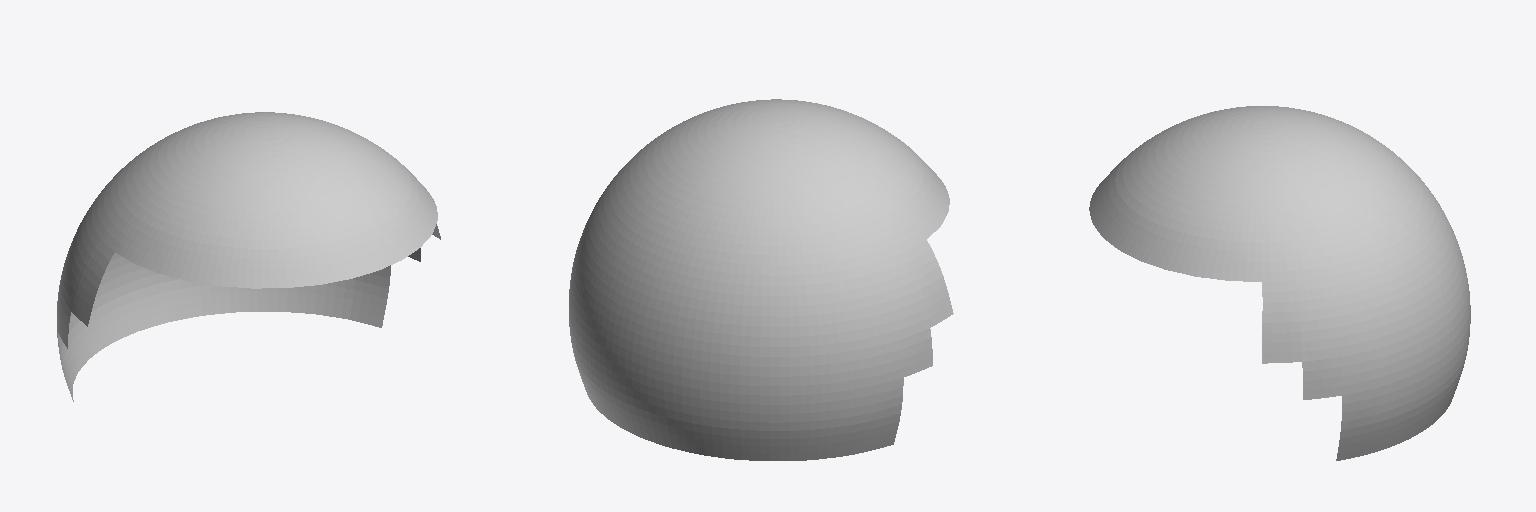
Rendered from Scalp.obj.
3 views of the same model, side by side, from view 1: azimuth 30°, elevation 25°; view 2: azimuth 150°, elevation 25°; view 3: azimuth 270°, elevation 25° (orthographic).
Visible parts, largest first — view 1: Scalp_Sphere.003; view 2: Scalp_Sphere.003; view 3: Scalp_Sphere.003.
Boxes of the visible parts, x1=… form: Scalp_Sphere.003: x1=57, y1=112, x2=440, y2=401; Scalp_Sphere.003: x1=569, y1=99, x2=953, y2=460; Scalp_Sphere.003: x1=1089, y1=106, x2=1470, y2=460.
Size of the model in its own units: 1.96 by 1.38 by 1.83.